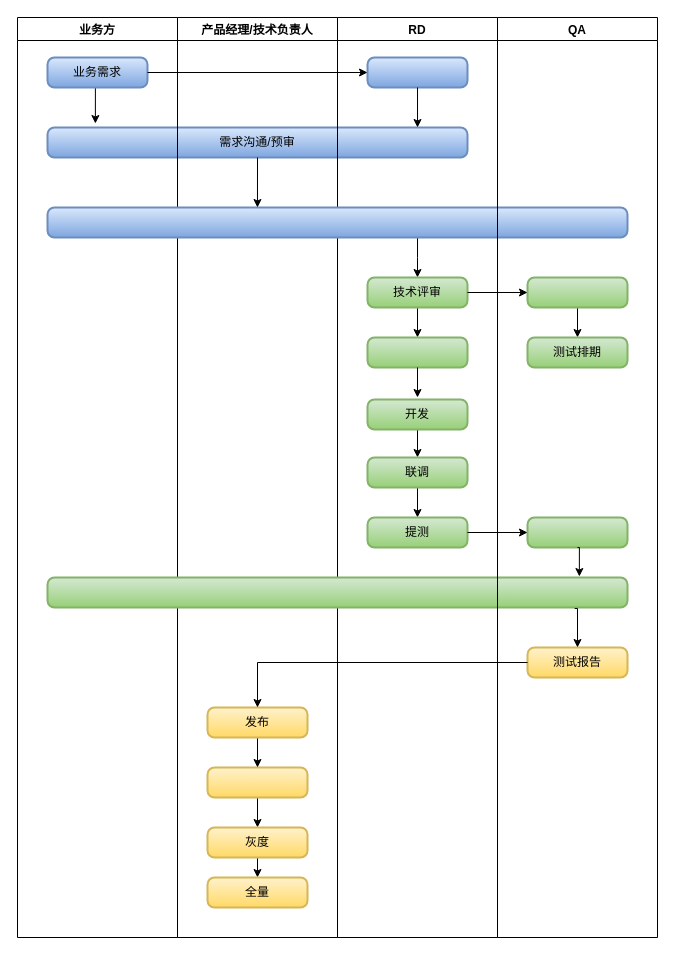
Some shapes in this 675 by 955 pixel diagram are drawn without their labels. The centre of each missing label's shape, as x and y in pixels:
"体验/验收" goes at pixel 337 592.
"开发排期" goes at pixel 417 352.
"技术需求" goes at pixel 417 72.
"提审" goes at pixel 257 782.
"测试执行" goes at pixel 577 532.
"用例评审" goes at pixel 577 292.
"需求评审" goes at pixel 337 222.
